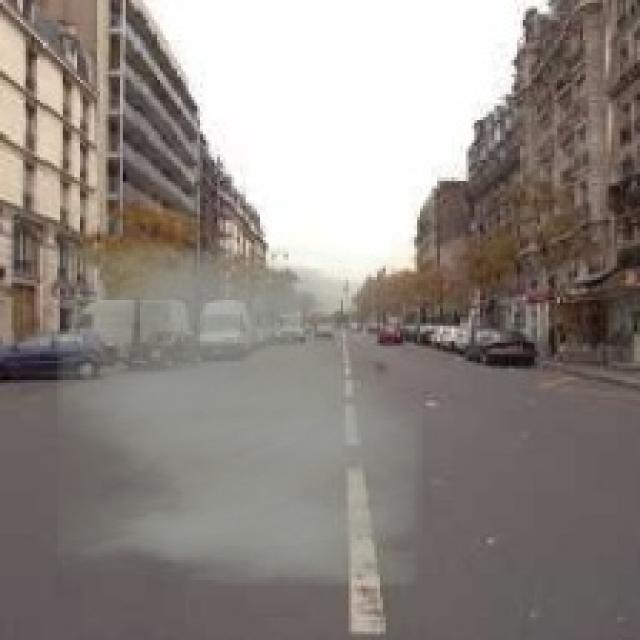smoke: (57, 243, 423, 586)
